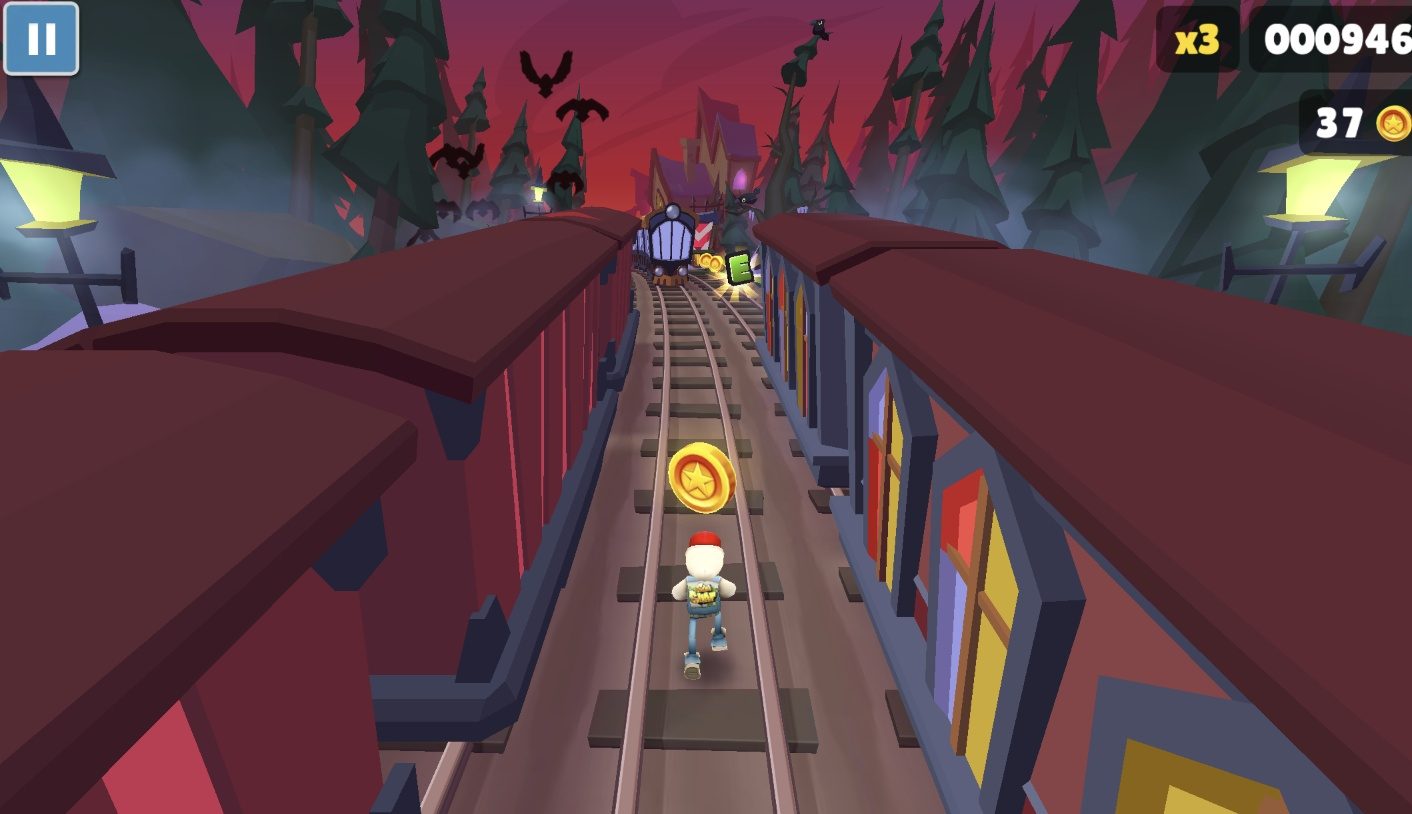overhead_barrier: (692, 212, 718, 268)
train: (0, 213, 632, 814), (783, 236, 1412, 814), (636, 203, 701, 290)
